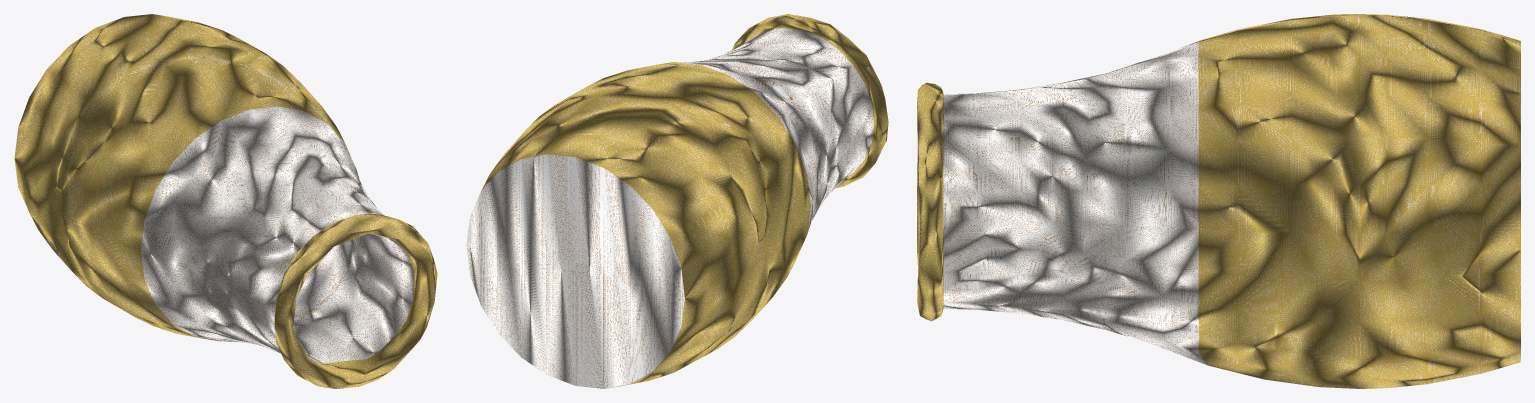
Rendered from model_align.obj.
The picture shows the model from 3 angles, left to right: view 1: azimuth 30°, elevation 25°; view 2: azimuth 150°, elevation 25°; view 3: azimuth 270°, elevation 25°; orthographic projection. The views are drawn at different scales.
Size of the model in its own units: 0.0719 by 0.0719 by 0.1154.
